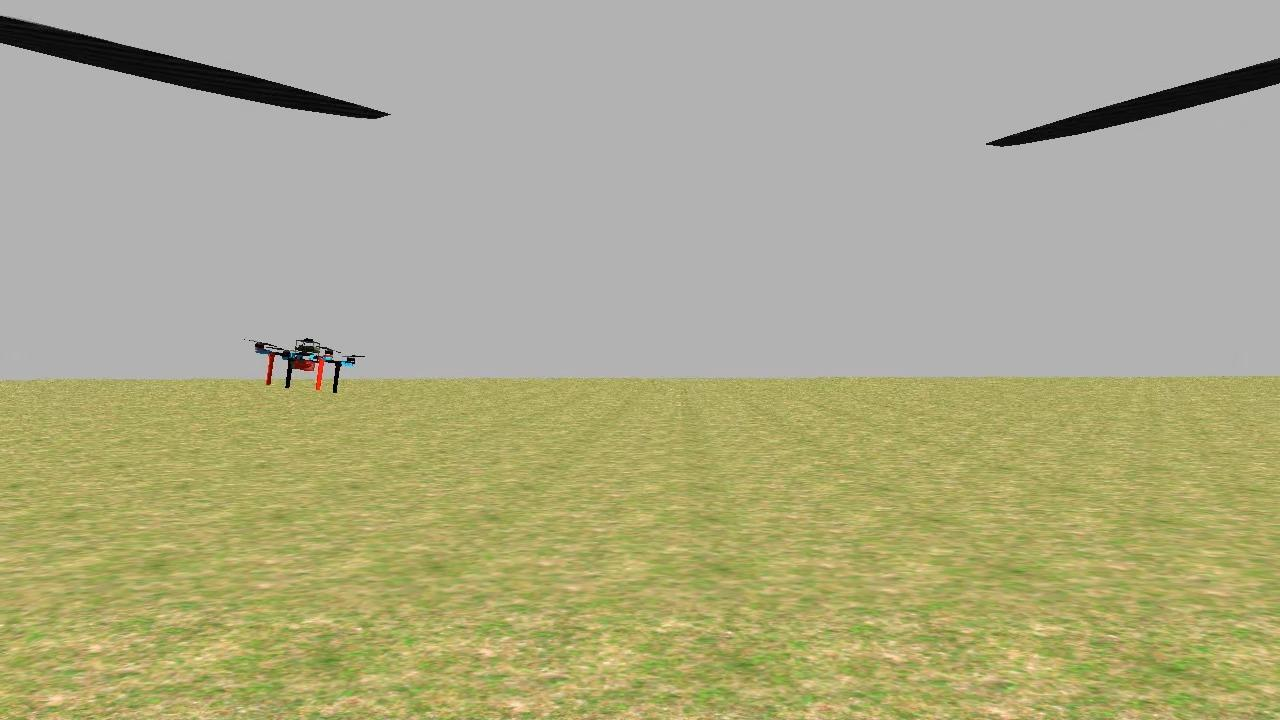UAV: (245, 330, 361, 391)
